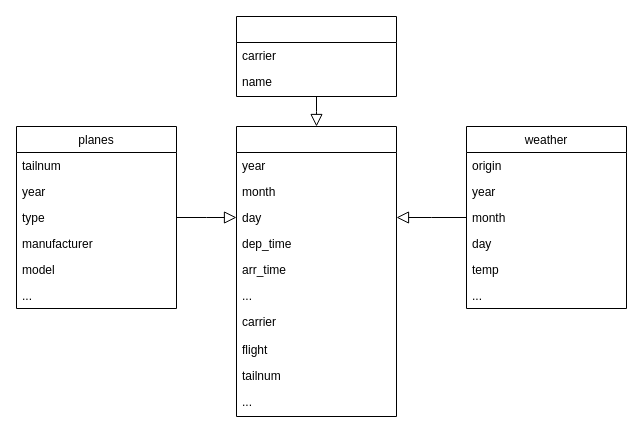
This 643x433 diagram has some shape labels left out. The box of each missing label's shape, as (x1, y1, x2, y2) in pixels:
airlines: (236, 16, 396, 96)
flights: (236, 126, 396, 416)
